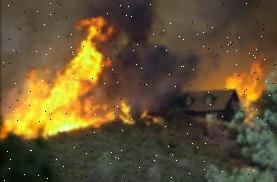fire: (0, 5, 141, 140), (223, 54, 267, 118)
